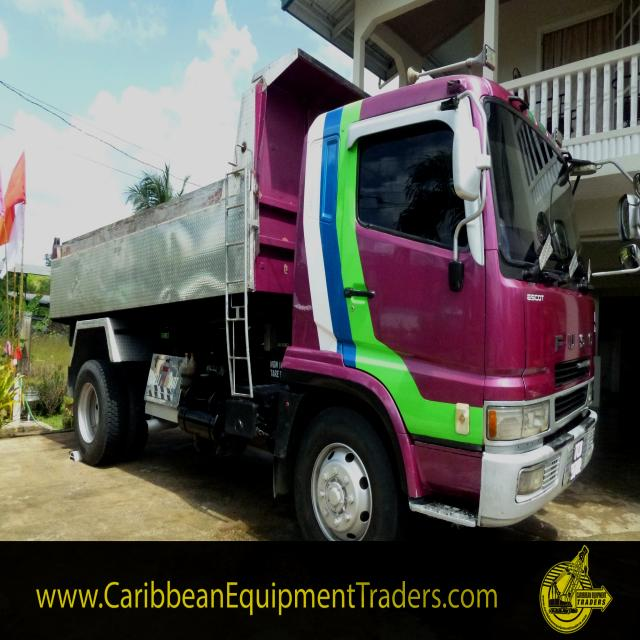truck: (48, 47, 638, 544)
